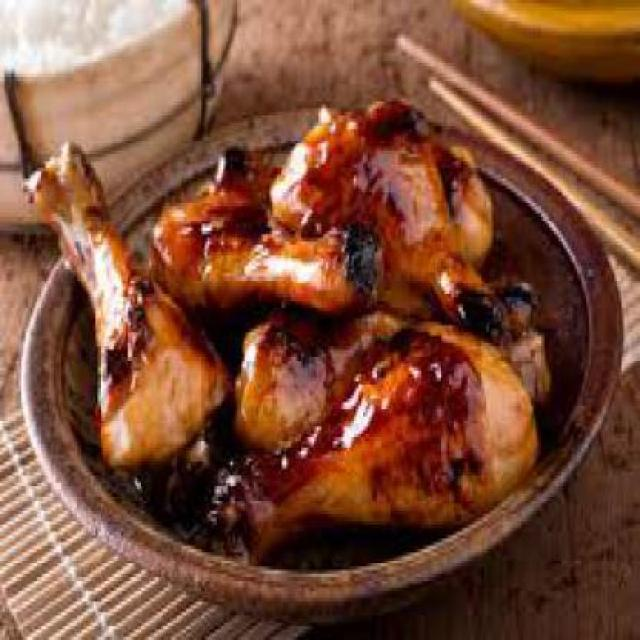Frango: (21, 119, 542, 546)
